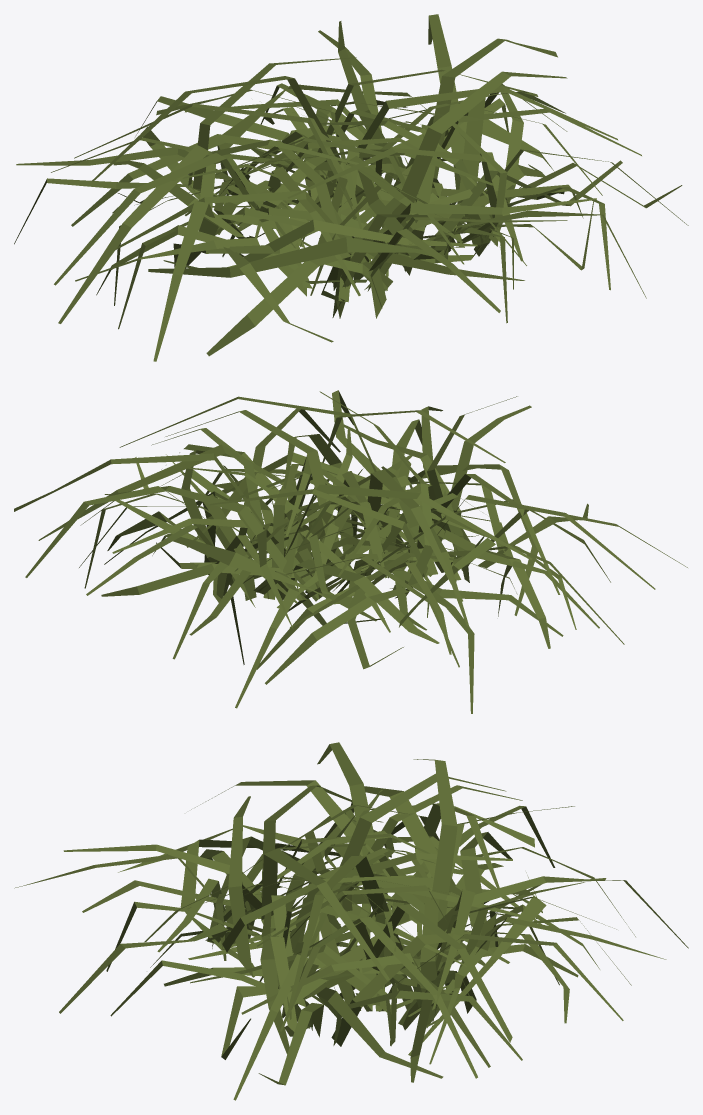
File: JapaneseSedge1.glb
3 renders of one model, top to bottom at view 1: azimuth 30°, elevation 25°; view 2: azimuth 150°, elevation 25°; view 3: azimuth 270°, elevation 25°, orthographic. The views are drawn at different scales.
Parts seen in each view (by area): view 1: JapaneseSedge1; view 2: JapaneseSedge1; view 3: JapaneseSedge1.
Part boxes in pixels (x1=…): JapaneseSedge1: x1=14, y1=14, x2=688, y2=361; JapaneseSedge1: x1=14, y1=390, x2=687, y2=713; JapaneseSedge1: x1=14, y1=742, x2=688, y2=1100.
Size of the model in its own units: 2.63 by 0.7277 by 2.61.
